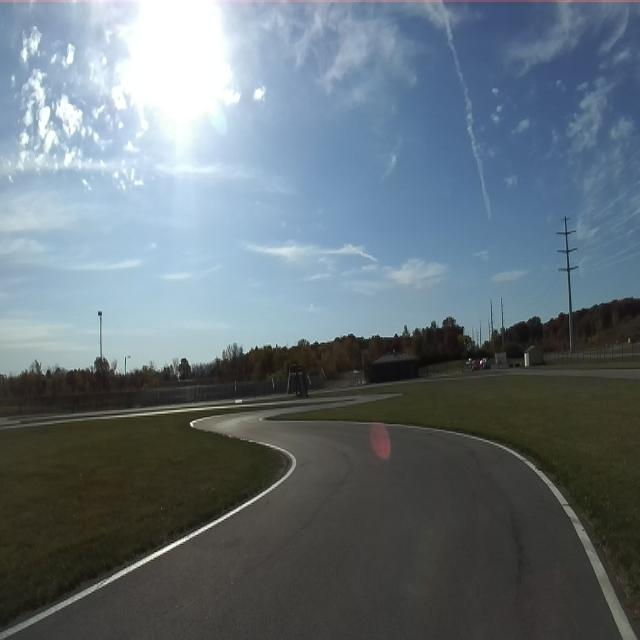white-line: (348, 422, 636, 639), (0, 440, 296, 639), (190, 417, 210, 427)
